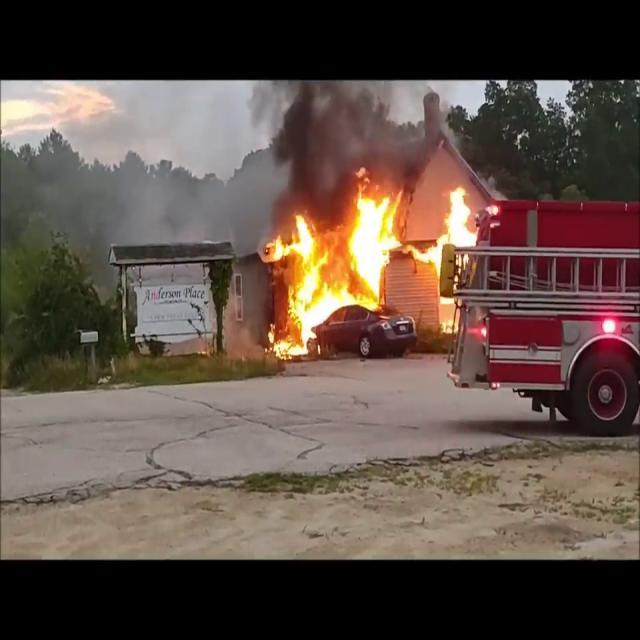Fire: (262, 183, 402, 357), (412, 181, 479, 275)
Smoke: (256, 80, 416, 204), (98, 144, 256, 252)
